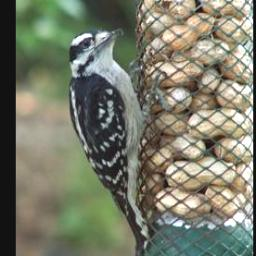Woodpecker: (56, 24, 170, 256)
